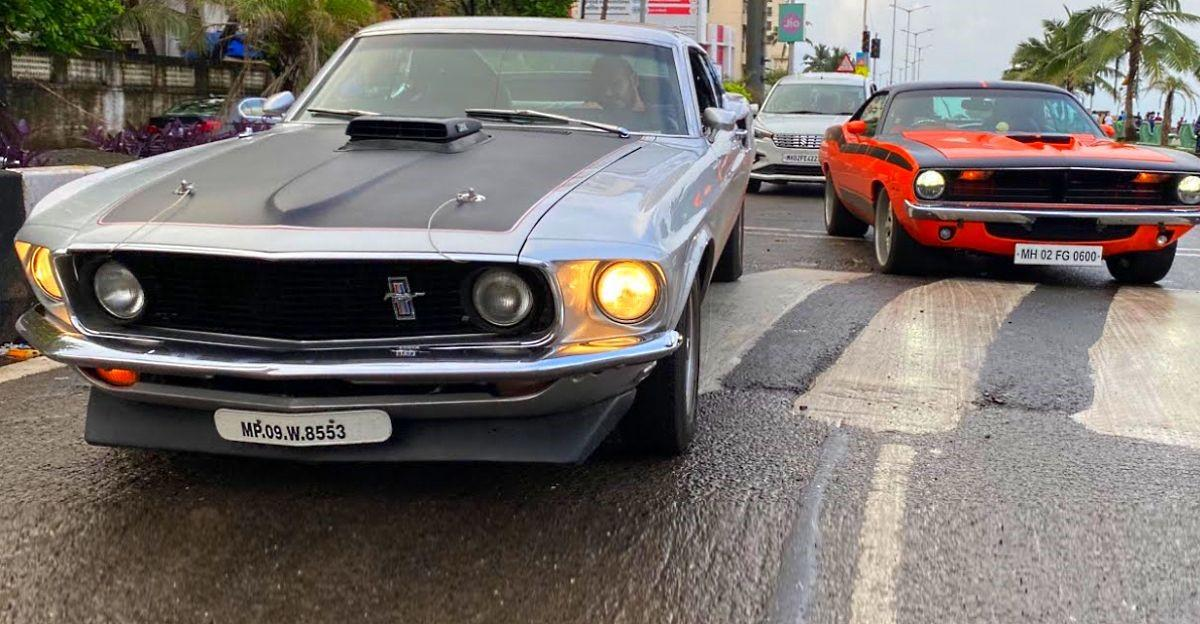LightVehicle: (1, 4, 760, 489), (820, 77, 1200, 281)
